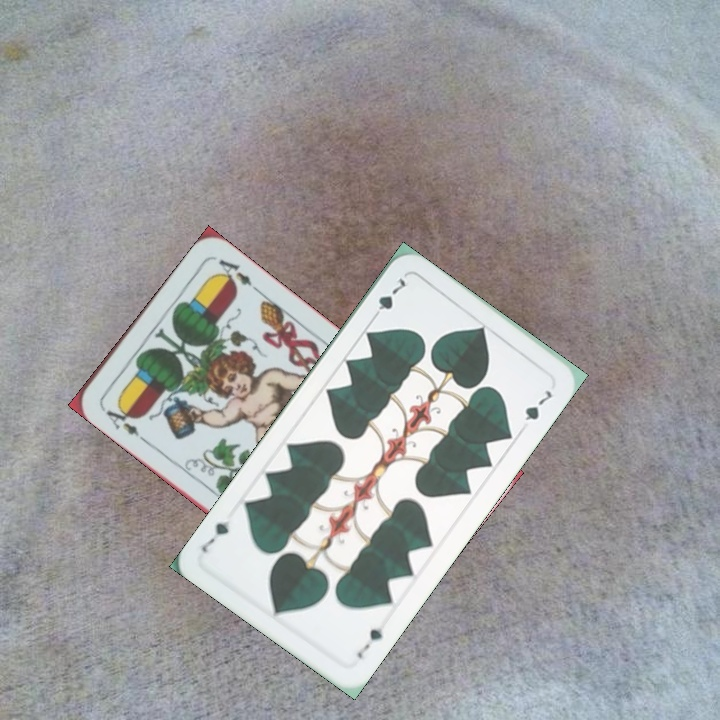EA: (97, 400, 148, 444)
G7: (368, 274, 409, 324), (353, 623, 386, 662)
